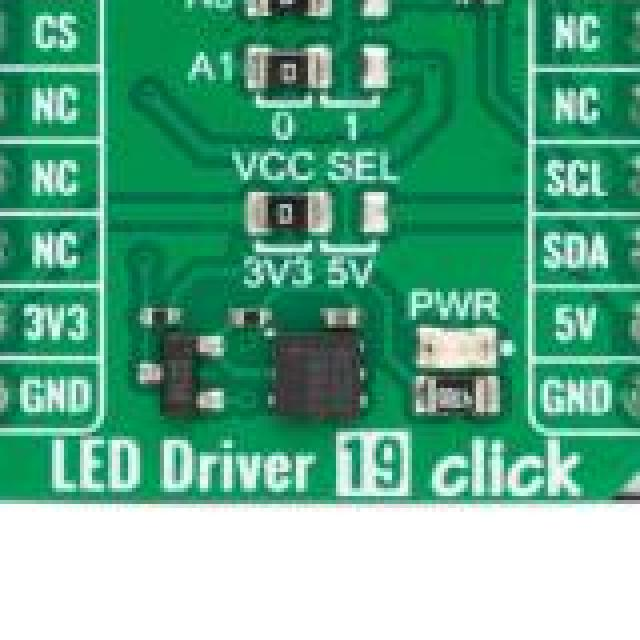IC: (272, 328, 372, 426)
LED: (420, 328, 490, 354)
capacitor: (324, 304, 358, 330)
resistor: (420, 376, 496, 416), (260, 48, 324, 94), (256, 192, 316, 230), (260, 0, 324, 20), (232, 308, 276, 334), (148, 308, 184, 324), (456, 0, 492, 8)
transistor: (152, 336, 230, 418)
